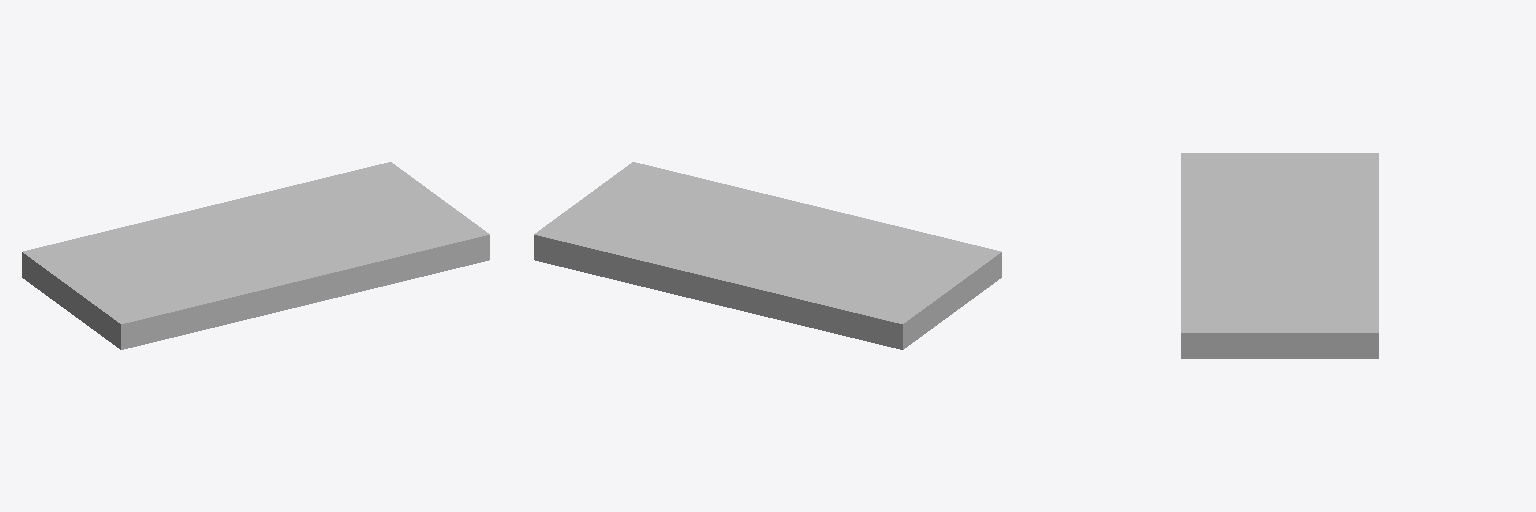
The model's file is aZyvJZJ8Mzn.obj.
3 views of the same model, side by side, from view 1: azimuth 30°, elevation 25°; view 2: azimuth 150°, elevation 25°; view 3: azimuth 270°, elevation 25° (orthographic).
Parts seen in each view (by area): view 1: mesh; view 2: mesh; view 3: mesh.
Boxes of the visible parts, x1=… form: mesh: x1=22, y1=162, x2=489, y2=349; mesh: x1=534, y1=162, x2=1001, y2=349; mesh: x1=1181, y1=153, x2=1378, y2=358.
Bounding box in the file's own units: 1.5 × 0.1 × 0.7.